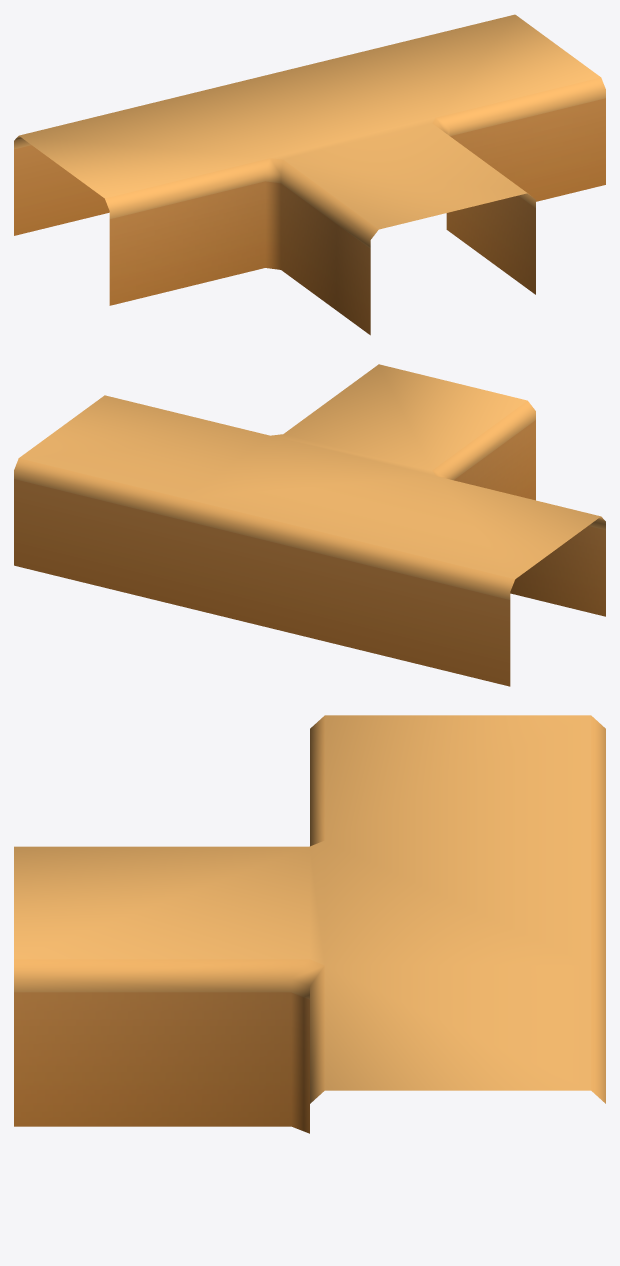
Rendered from T Junction 01.FBX.
The picture shows the model from 3 angles, top to bottom: view 1: azimuth 30°, elevation 25°; view 2: azimuth 150°, elevation 25°; view 3: azimuth 270°, elevation 25°; orthographic projection. The views are drawn at different scales.
Visible parts, largest first — view 1: T Junction 01; view 2: T Junction 01; view 3: T Junction 01.
Boxes of the visible parts, box(x1,y1,x2,y2) form: T Junction 01: box(14, 14, 605, 335); T Junction 01: box(14, 364, 605, 686); T Junction 01: box(14, 715, 605, 1133).
Bounding box in the file's own units: 1500 × 300 × 1000.
1 material, 1 textured.
